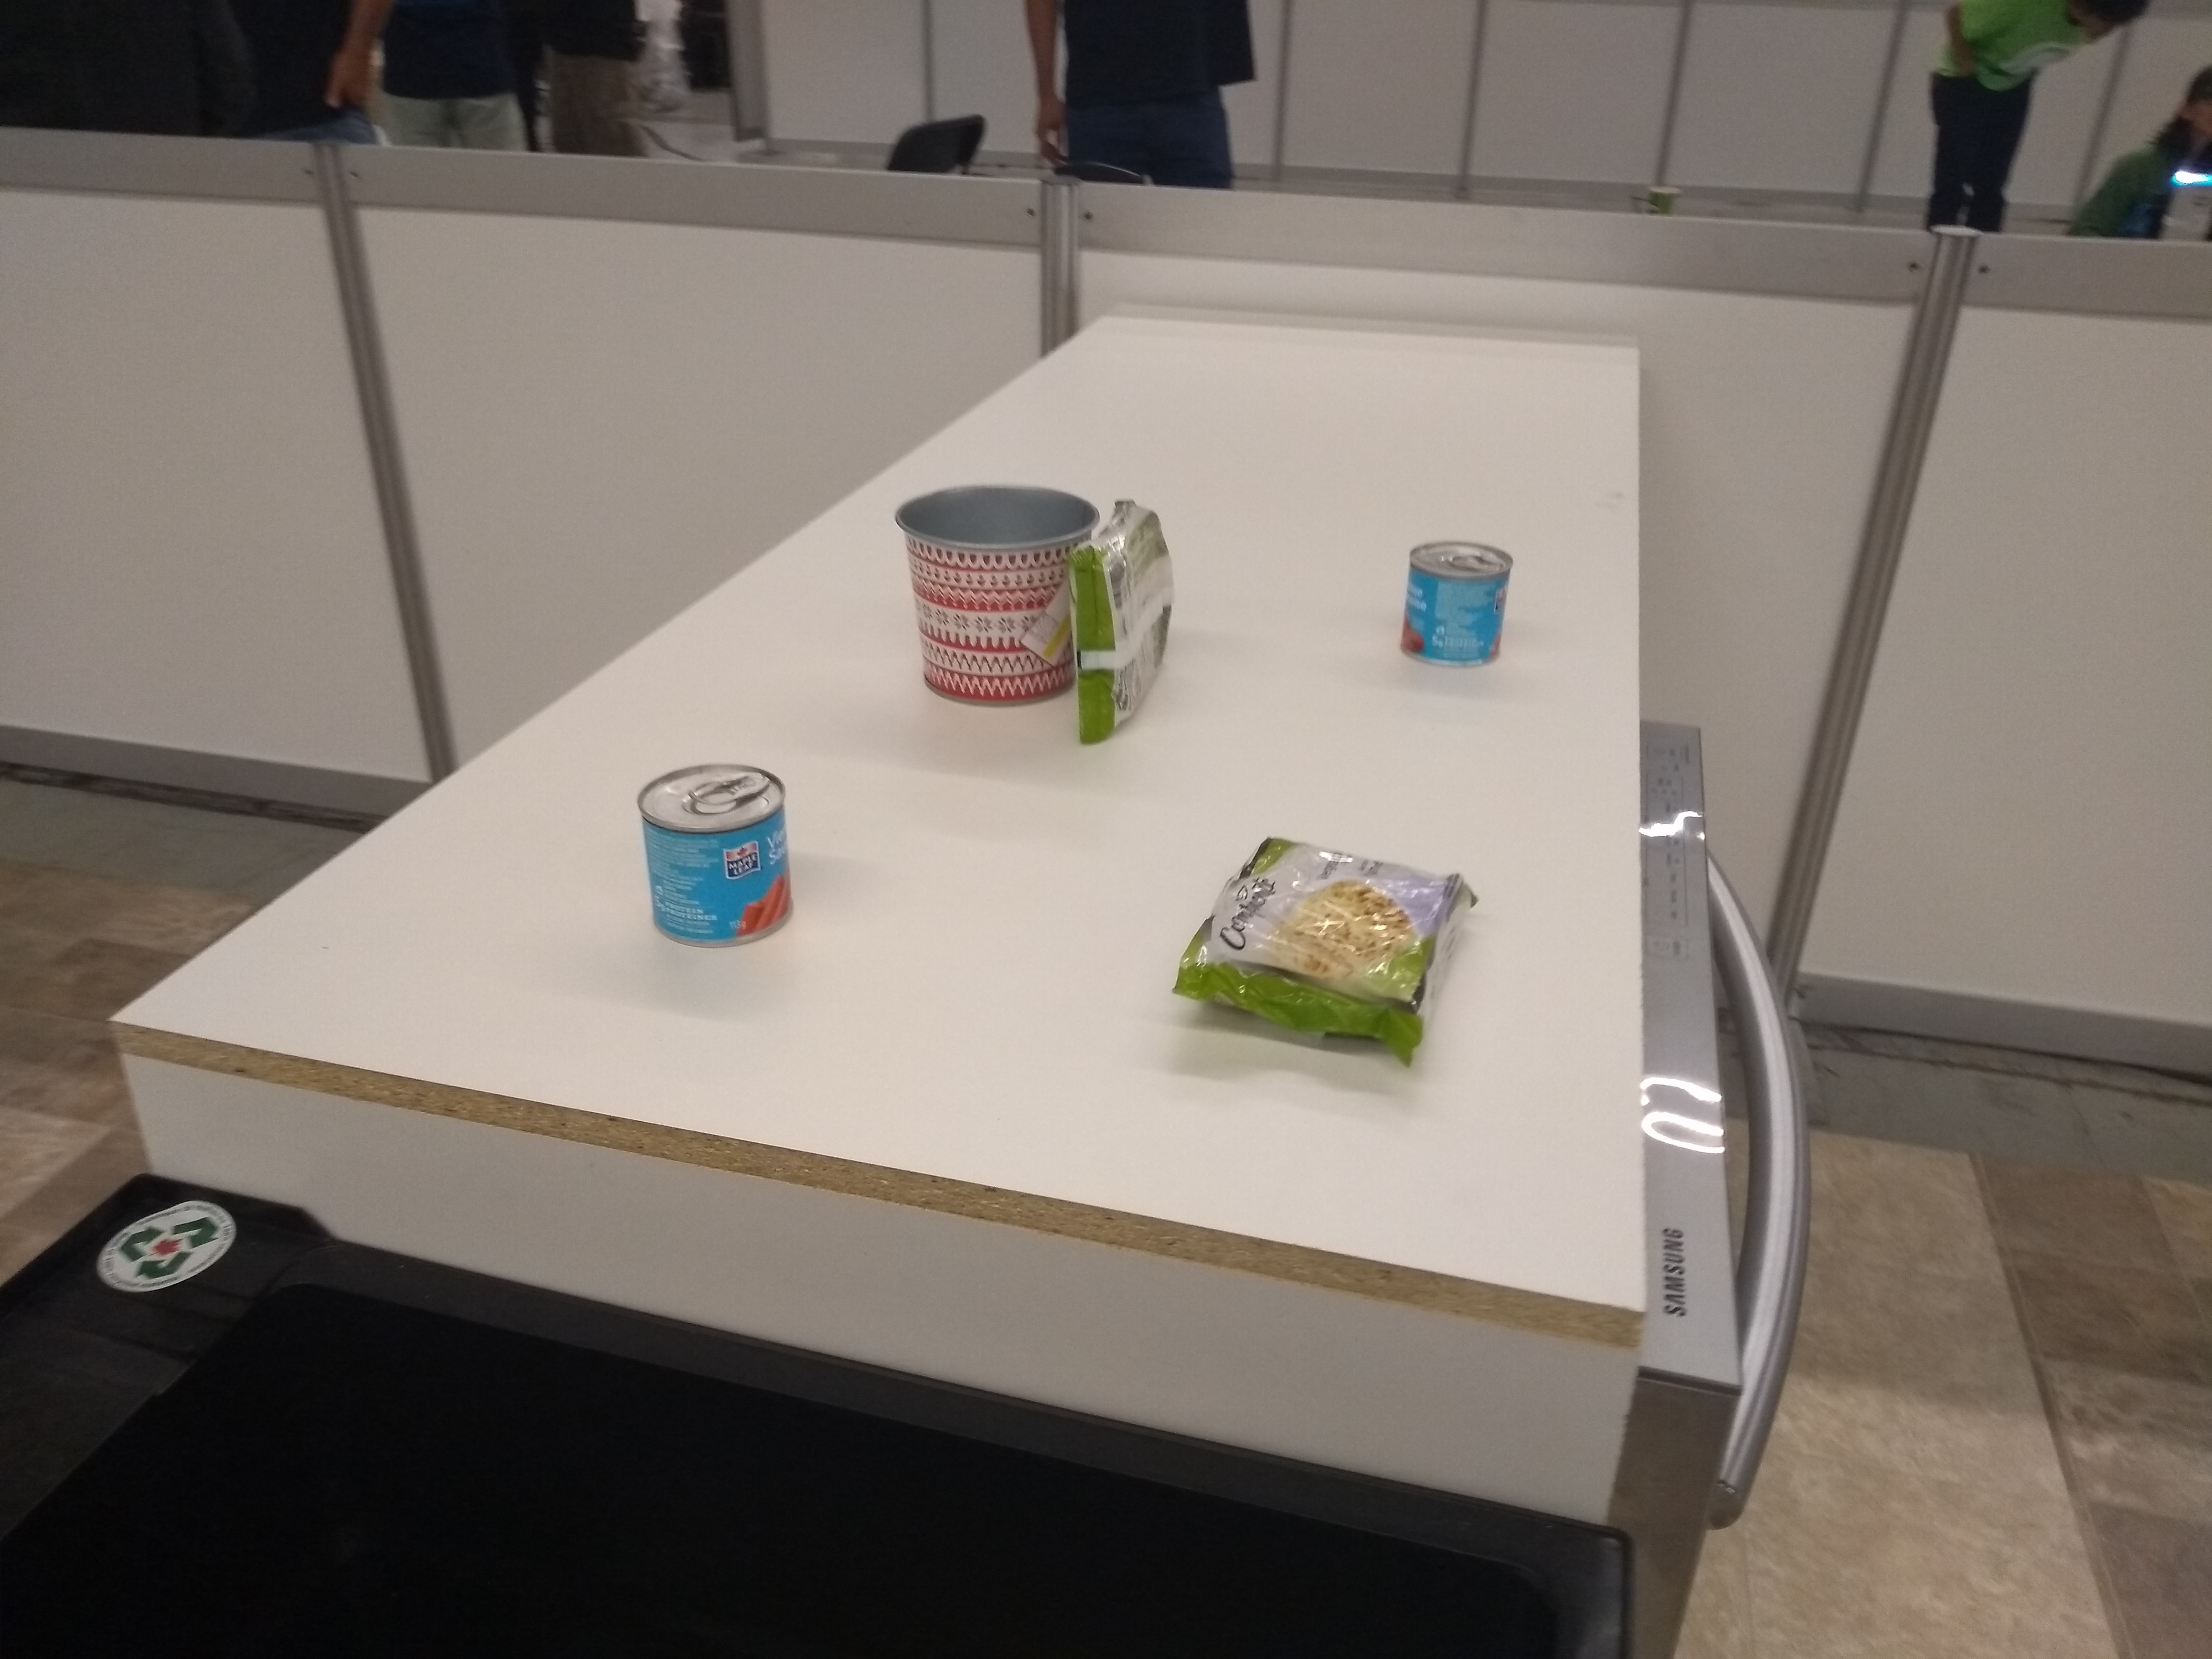noodles: (1157, 826, 1500, 1080), (1057, 484, 1190, 763)
sausages: (620, 753, 808, 960), (1390, 528, 1524, 676)
